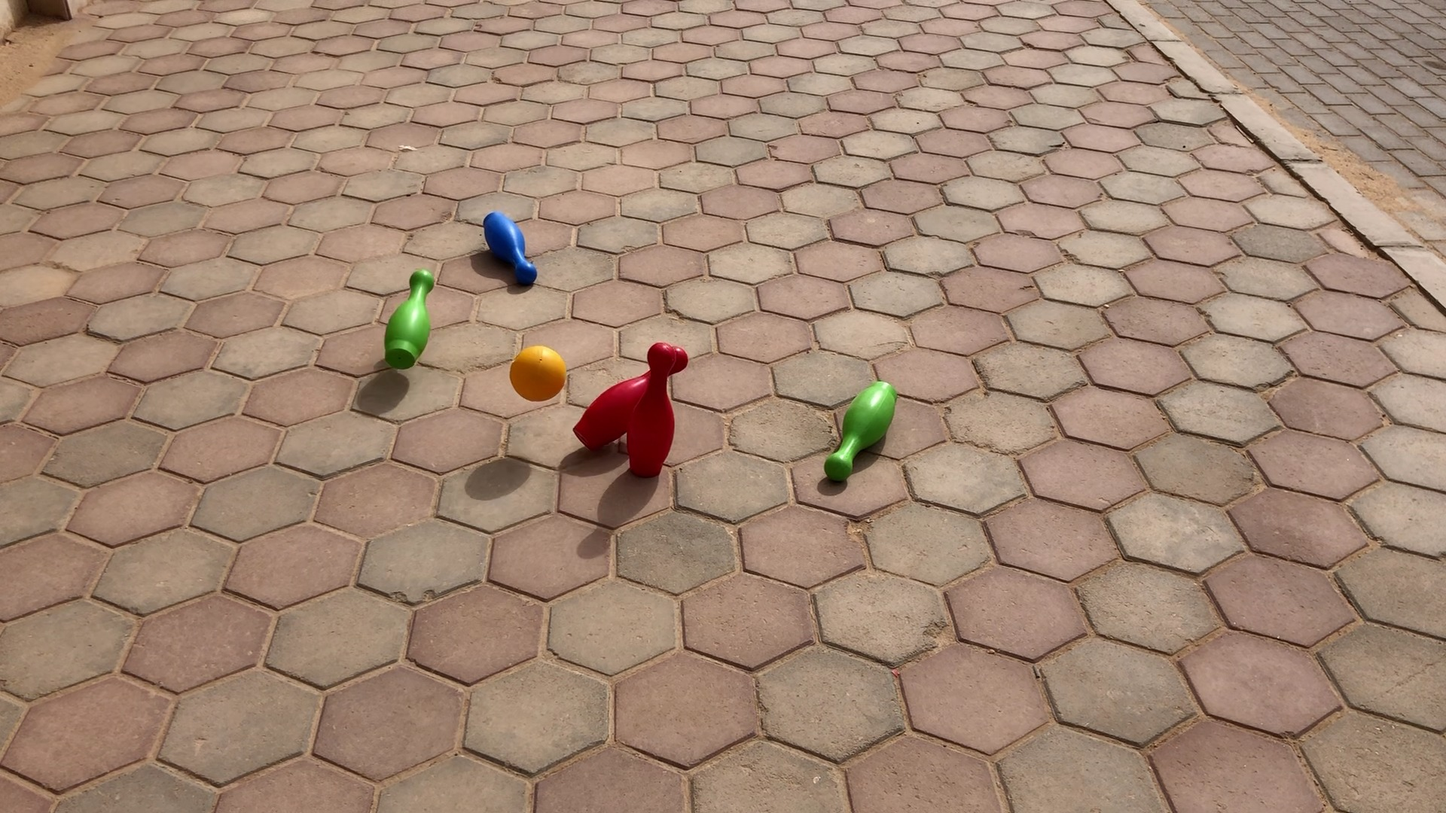bowling-pin: (631, 343, 686, 480), (823, 382, 892, 481), (386, 269, 434, 367), (485, 212, 539, 285)
